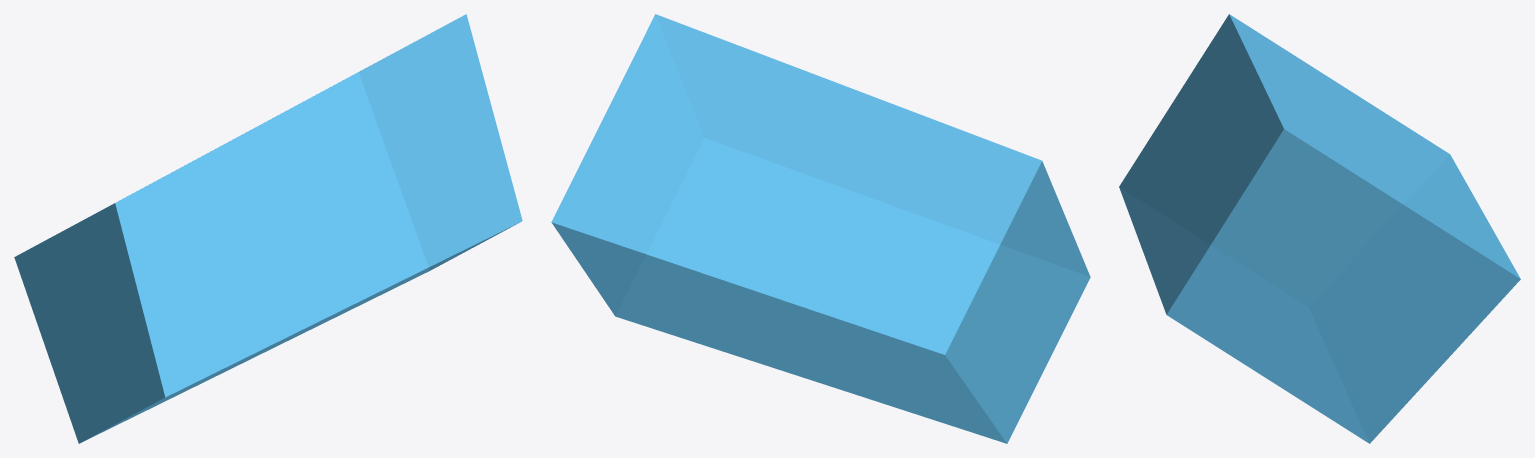
Rendered from Event_421115418_HErechit_55.fbx.
3 views of the same model, side by side, from view 1: azimuth 30°, elevation 25°; view 2: azimuth 150°, elevation 25°; view 3: azimuth 270°, elevation 25° (orthographic). The views are drawn at different scales.
Visible parts, largest first — view 1: Model; view 2: Model; view 3: Model.
Part boxes in pixels (x1,y1,x2,y2): Model: [14, 14, 522, 443]; Model: [551, 14, 1090, 443]; Model: [1119, 14, 1520, 443].
Bounding box in the file's own units: 0.7275 × 0.6352 × 0.6096.
